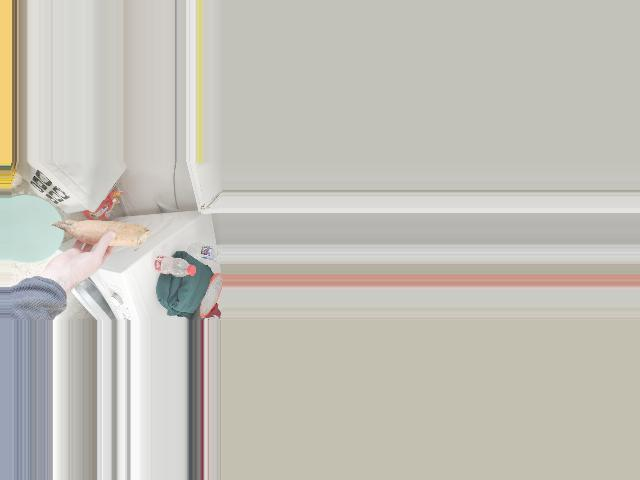sweet_potato: (57, 221, 140, 250)
